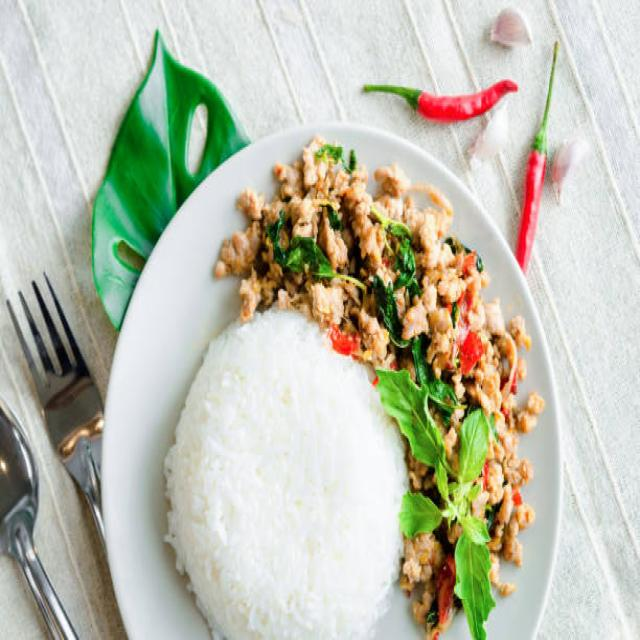Carbohydrate: (165, 303, 411, 640)
Kaow-Padkrapao: (99, 122, 558, 640)
Protein: (209, 138, 525, 626)
Vegetable: (374, 360, 500, 632)
